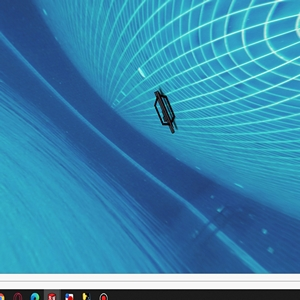submarine: (154, 89, 176, 131)
